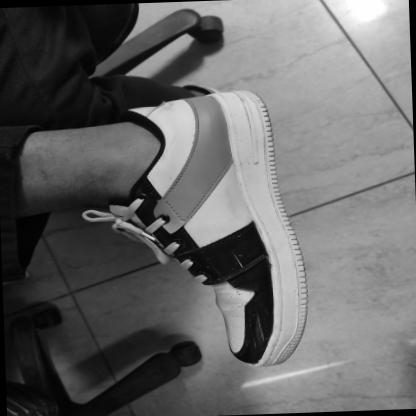ankle: (162, 153, 168, 157)
heel: (201, 97, 207, 101)
left_foot: (122, 88, 314, 380)
pinky: (227, 322, 233, 326)
toe: (258, 350, 264, 354)
